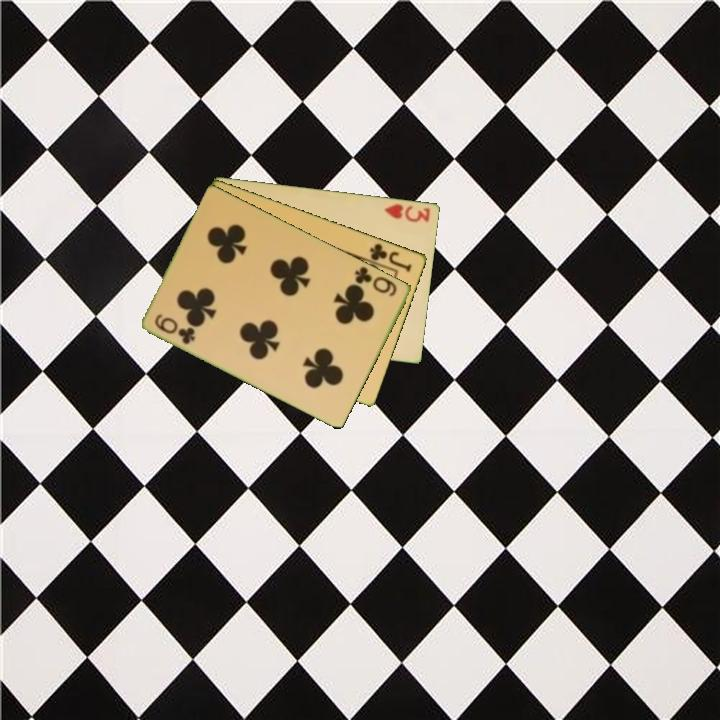3h: (381, 200, 433, 225)
6c: (151, 310, 199, 347), (351, 263, 400, 299)
Jc: (367, 240, 415, 275)
